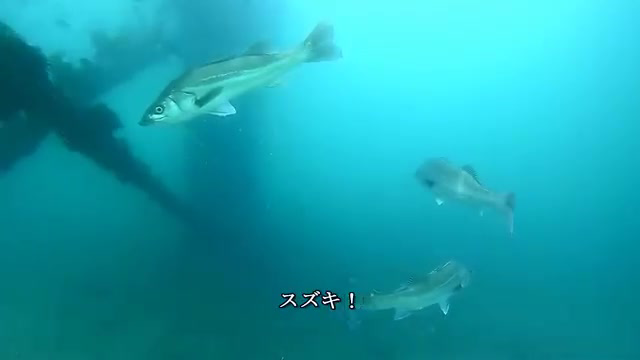suzuki: (138, 16, 350, 135), (402, 143, 535, 233), (326, 254, 478, 329)
